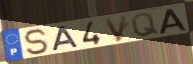4: (81, 19, 102, 46)
A: (51, 25, 81, 53), (159, 7, 188, 35)
Q: (130, 12, 161, 38)
S: (22, 28, 51, 56)
V: (102, 13, 129, 43)
